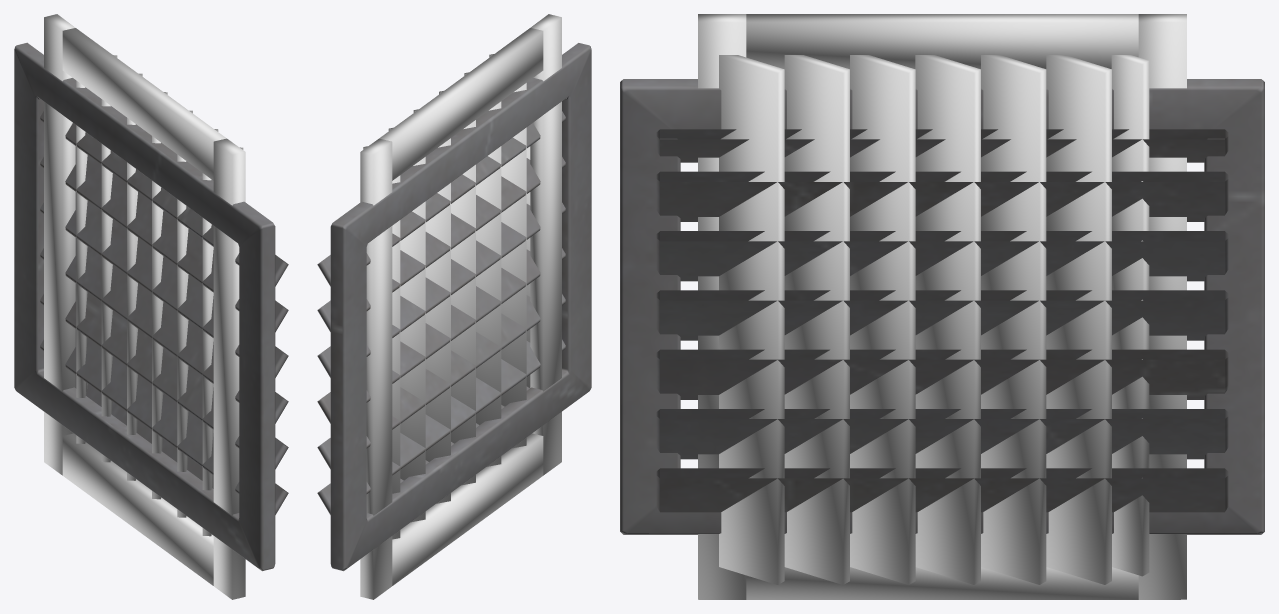
File: SM_Vent_Grid.fbx
3 views of the same model, side by side, from view 1: azimuth 30°, elevation 25°; view 2: azimuth 150°, elevation 25°; view 3: azimuth 270°, elevation 25° (orthographic). The views are drawn at different scales.
Parts seen in each view (by area): view 1: SM_Vent_Grid, SM_Vent_Grid_ConvexHulls; view 2: SM_Vent_Grid, SM_Vent_Grid_ConvexHulls; view 3: SM_Vent_Grid_ConvexHulls, SM_Vent_Grid.
Part boxes in pixels (left/top/right/bottom): SM_Vent_Grid: left=14, top=42, right=288, bottom=571; SM_Vent_Grid_ConvexHulls: left=44, top=14, right=245, bottom=599; SM_Vent_Grid: left=317, top=43, right=591, bottom=571; SM_Vent_Grid_ConvexHulls: left=360, top=14, right=561, bottom=599; SM_Vent_Grid_ConvexHulls: left=698, top=14, right=1186, bottom=599; SM_Vent_Grid: left=620, top=79, right=1264, bottom=534.
Size of the model in its own units: 0.1079 by 1.07 by 1.08.
